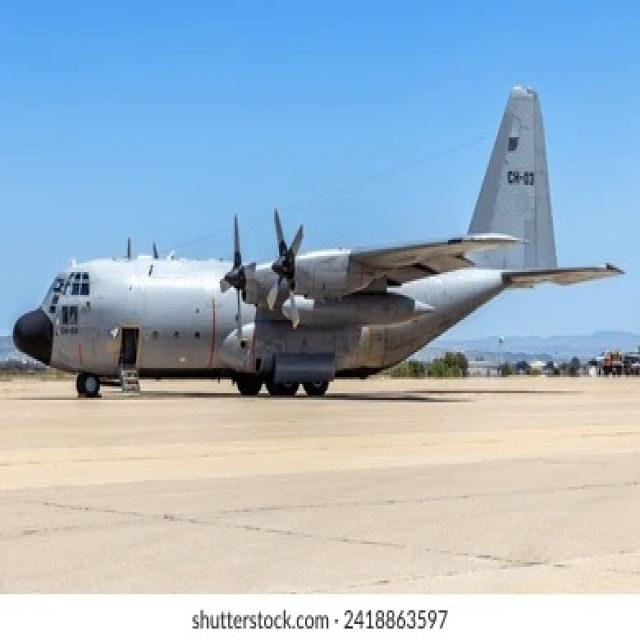C130: (6, 74, 636, 424)
